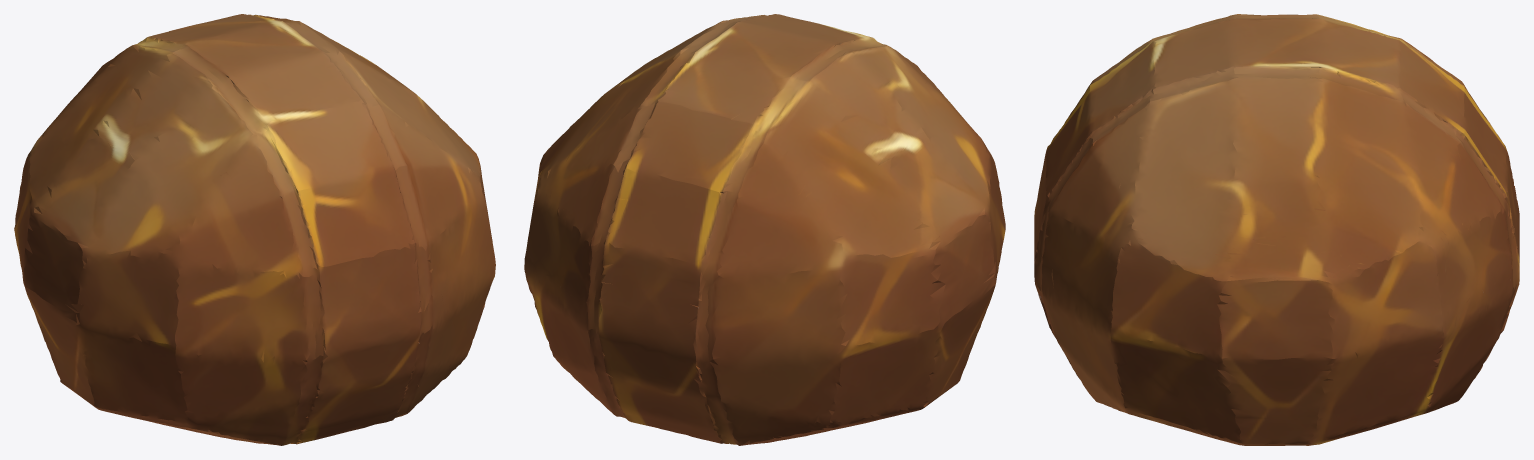
The model's file is ore_gold.glb.
3 views of the same model, side by side, from view 1: azimuth 30°, elevation 25°; view 2: azimuth 150°, elevation 25°; view 3: azimuth 270°, elevation 25° (orthographic). The views are drawn at different scales.
Visible parts, largest first — view 1: ore_gold; view 2: ore_gold; view 3: ore_gold.
Boxes of the visible parts, left/top/right/bottom form: ore_gold: left=14, top=14, right=495, bottom=445; ore_gold: left=524, top=14, right=1005, bottom=445; ore_gold: left=1034, top=14, right=1519, bottom=445.
Size of the model in its own units: 1 by 0.8395 by 0.9991.
Materials: 1 (1 with a texture image).
